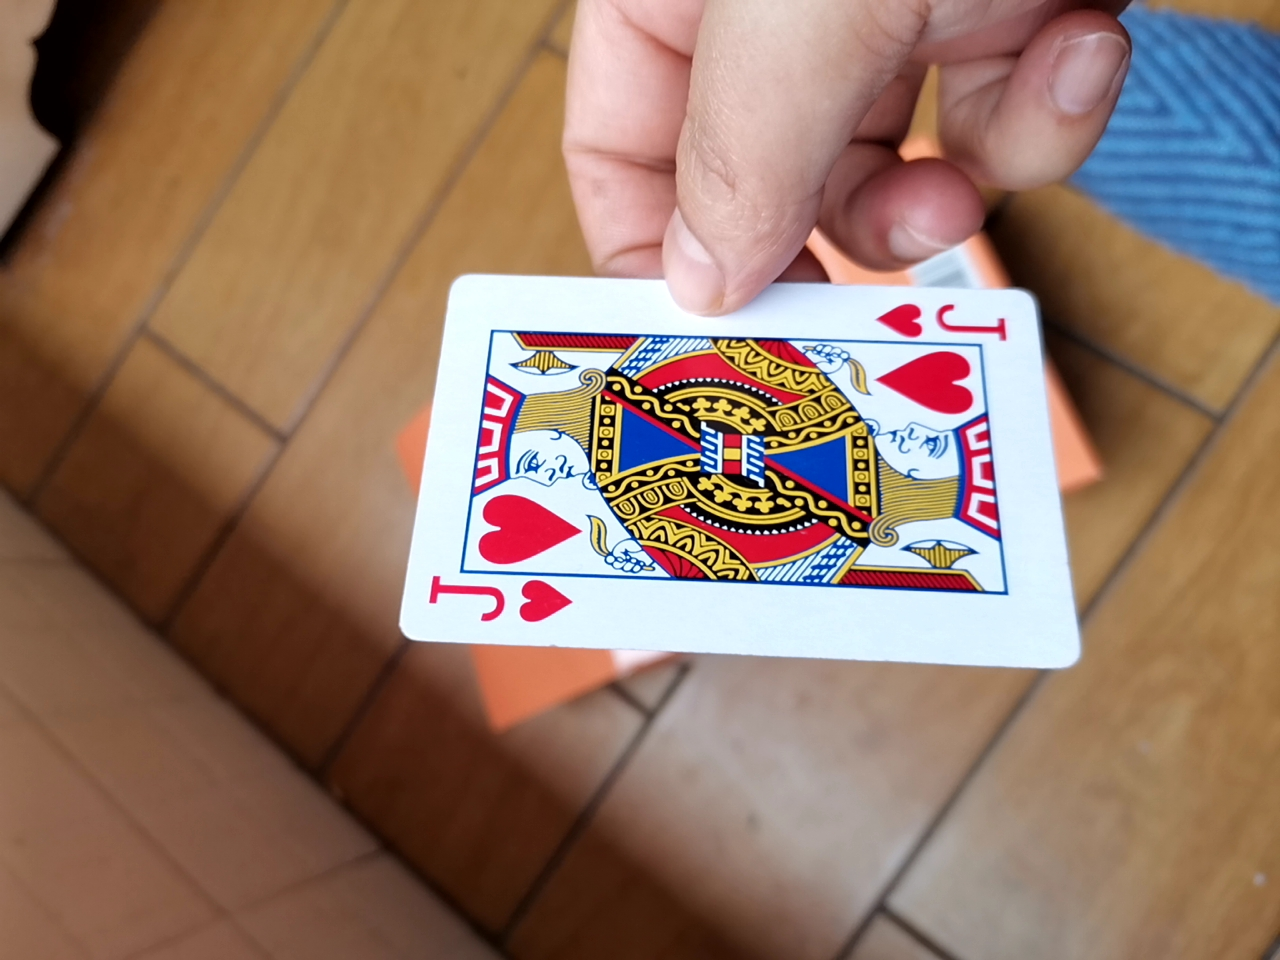hx j: (378, 250, 1094, 681)
